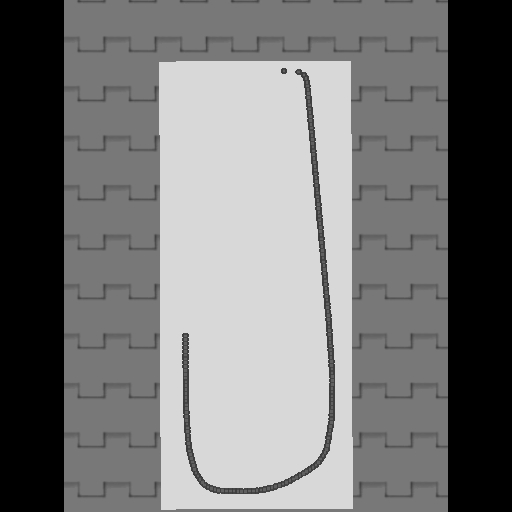Defect: (173, 78, 213, 336)
